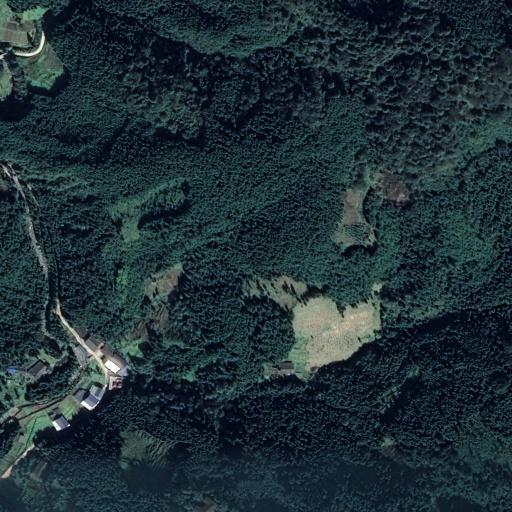landslide: (287, 298, 380, 378)
